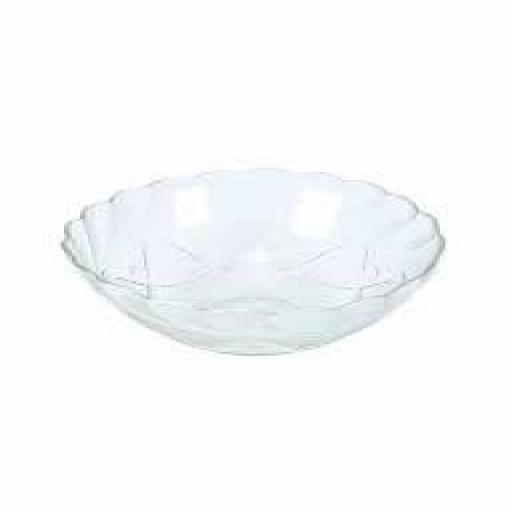glass: (36, 152, 480, 370)
